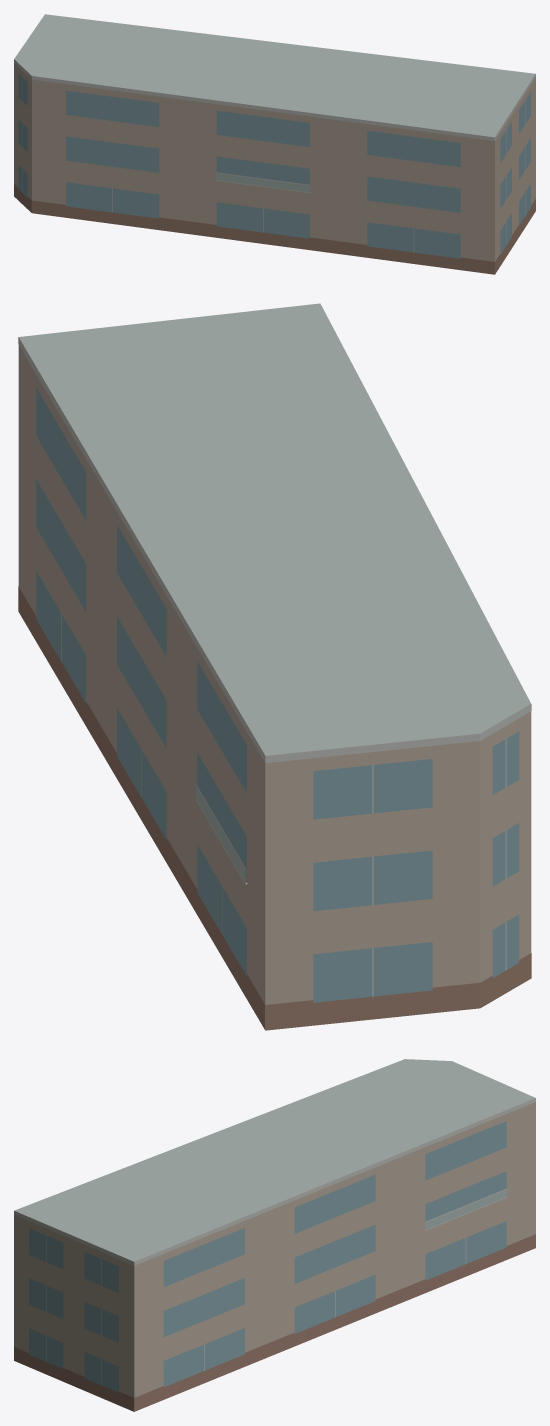
File: survey-upis-32718305.glb
The picture shows the model from 3 angles, top to bottom: view 1: azimuth 30°, elevation 25°; view 2: azimuth 150°, elevation 25°; view 3: azimuth 270°, elevation 25°; orthographic projection. The views are drawn at different scales.
Visible parts, largest first — view 1: survey-upis-32718305.tmp; view 2: survey-upis-32718305.tmp; view 3: survey-upis-32718305.tmp.
Part boxes in pixels (bbox=[...]): survey-upis-32718305.tmp: bbox=[14, 14, 535, 274]; survey-upis-32718305.tmp: bbox=[18, 303, 531, 1030]; survey-upis-32718305.tmp: bbox=[14, 1059, 535, 1411].
Bounding box in the file's own units: 26.52 × 9.15 × 28.84.
